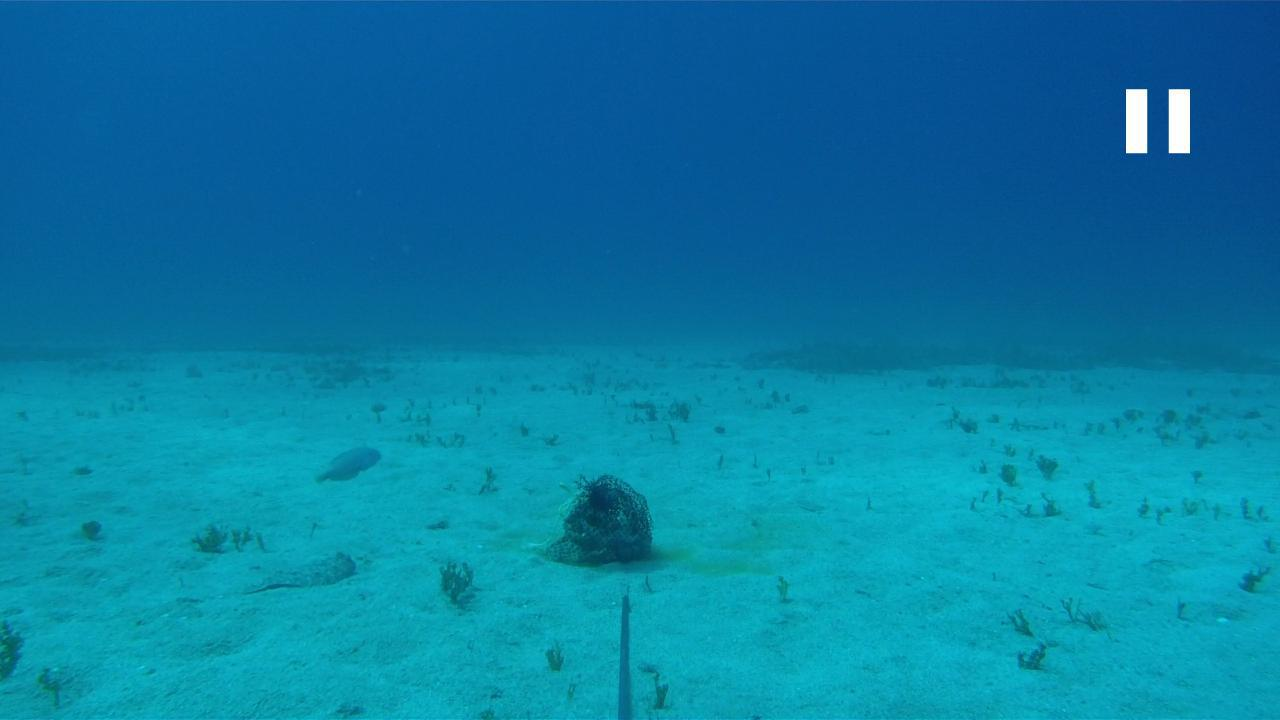bothus: (240, 546, 362, 592)
raor: (312, 443, 382, 488)
